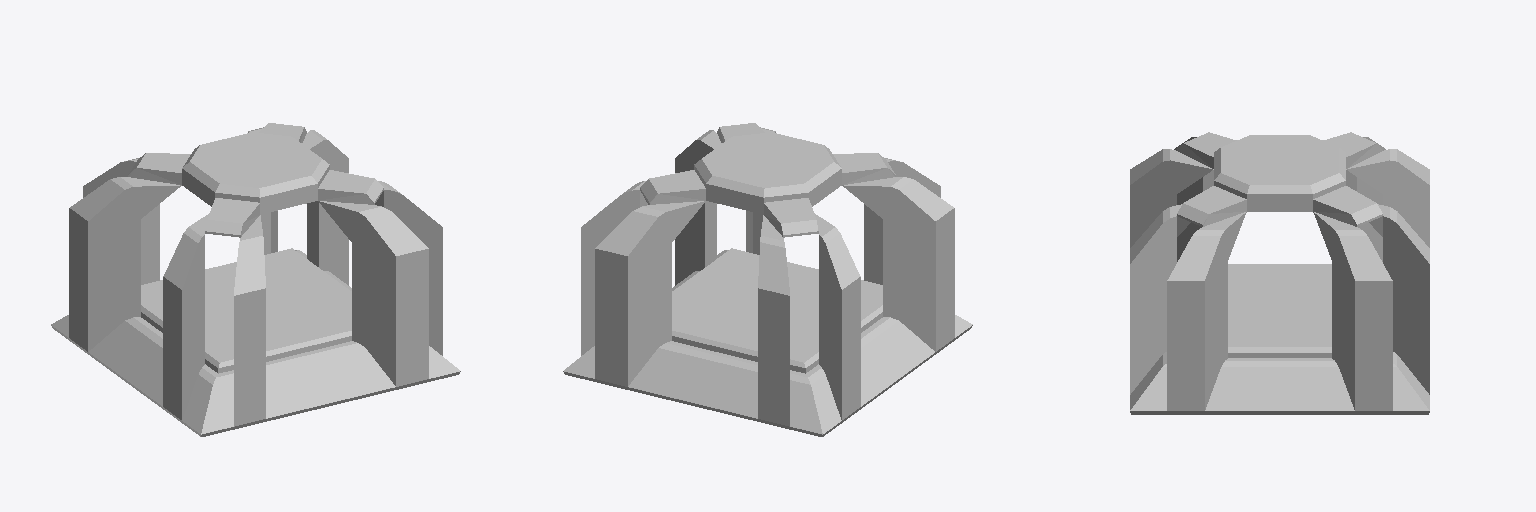
File: building_fix.obj
3 views of the same model, side by side, from view 1: azimuth 30°, elevation 25°; view 2: azimuth 150°, elevation 25°; view 3: azimuth 270°, elevation 25° (orthographic).
Parts seen in each view (by area): view 1: Cube; view 2: Cube; view 3: Cube.
Boxes of the visible parts, box(x1,y1,x2,y2) form: Cube: box(51, 123, 460, 436); Cube: box(563, 123, 972, 436); Cube: box(1130, 132, 1429, 414).
Bounding box in the file's own units: 6.61 × 4.65 × 6.61.